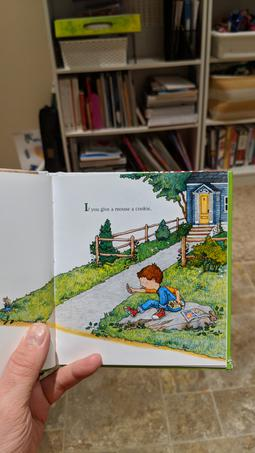text block: (75, 199, 155, 218)
